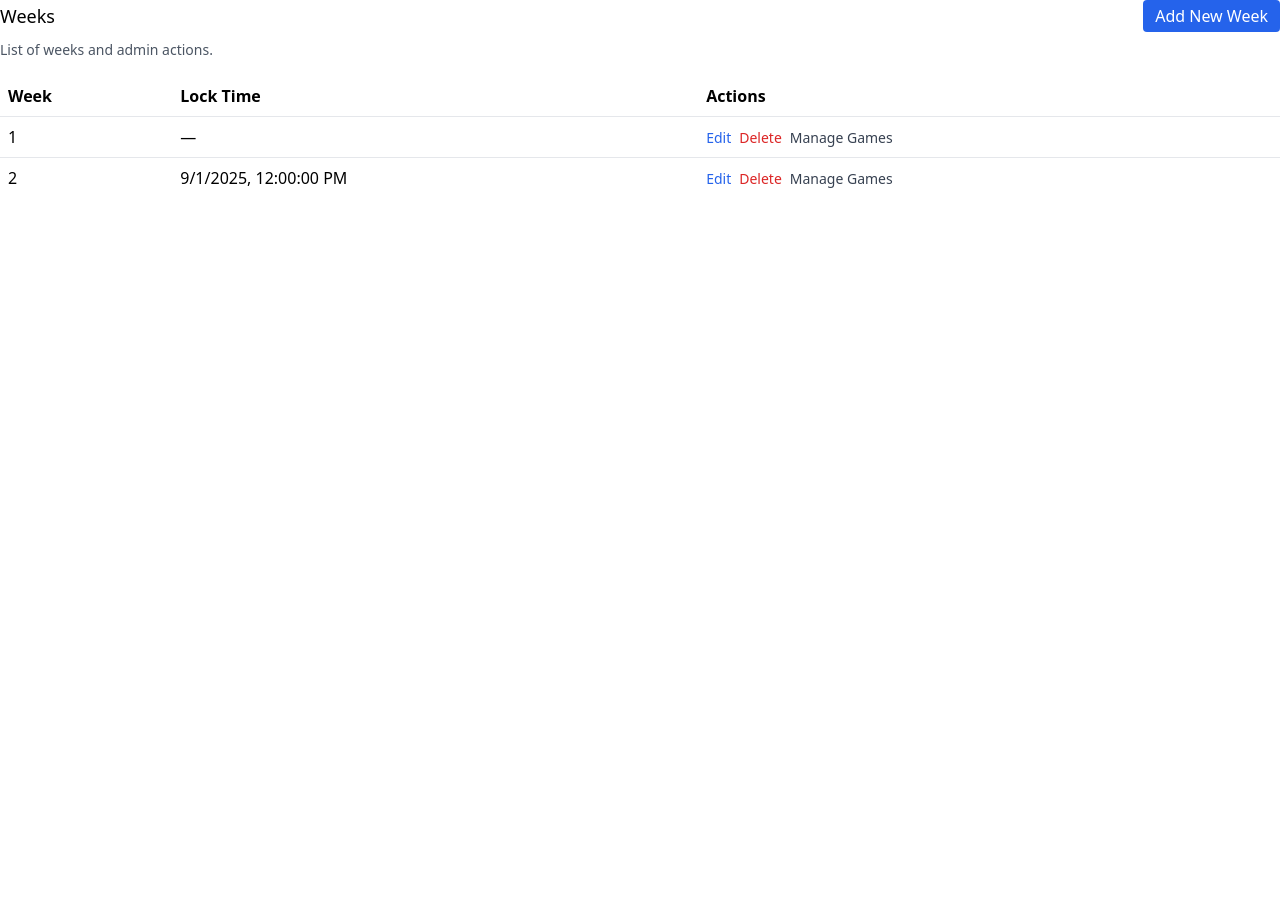
Test case: WeeksList admin CRUD › edits an existing week
Check: the text "1" is shown, box top-left (0, 116), bottom-right (172, 158)
// assume first edit corresponds to week 1
Click the 1st button "Edit".
click(719, 138)  # box top-left (706, 128), bottom-right (731, 148)
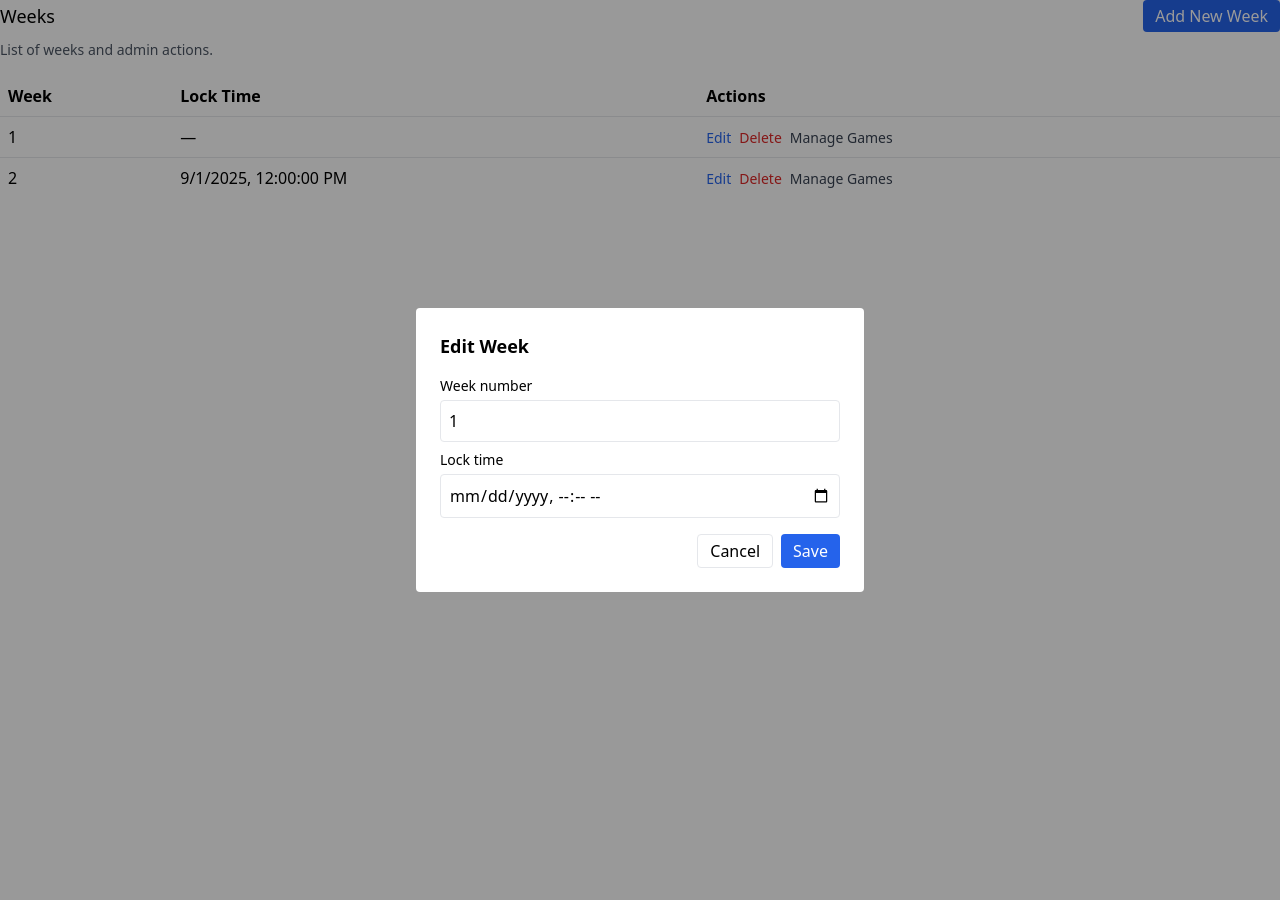
Check: the number field labelled "Week number" holds "1"
// change to 10
Replace the text in the number field labelled "Week number" with "10" at x=640, y=421, box top-left (440, 400), bottom-right (840, 442)
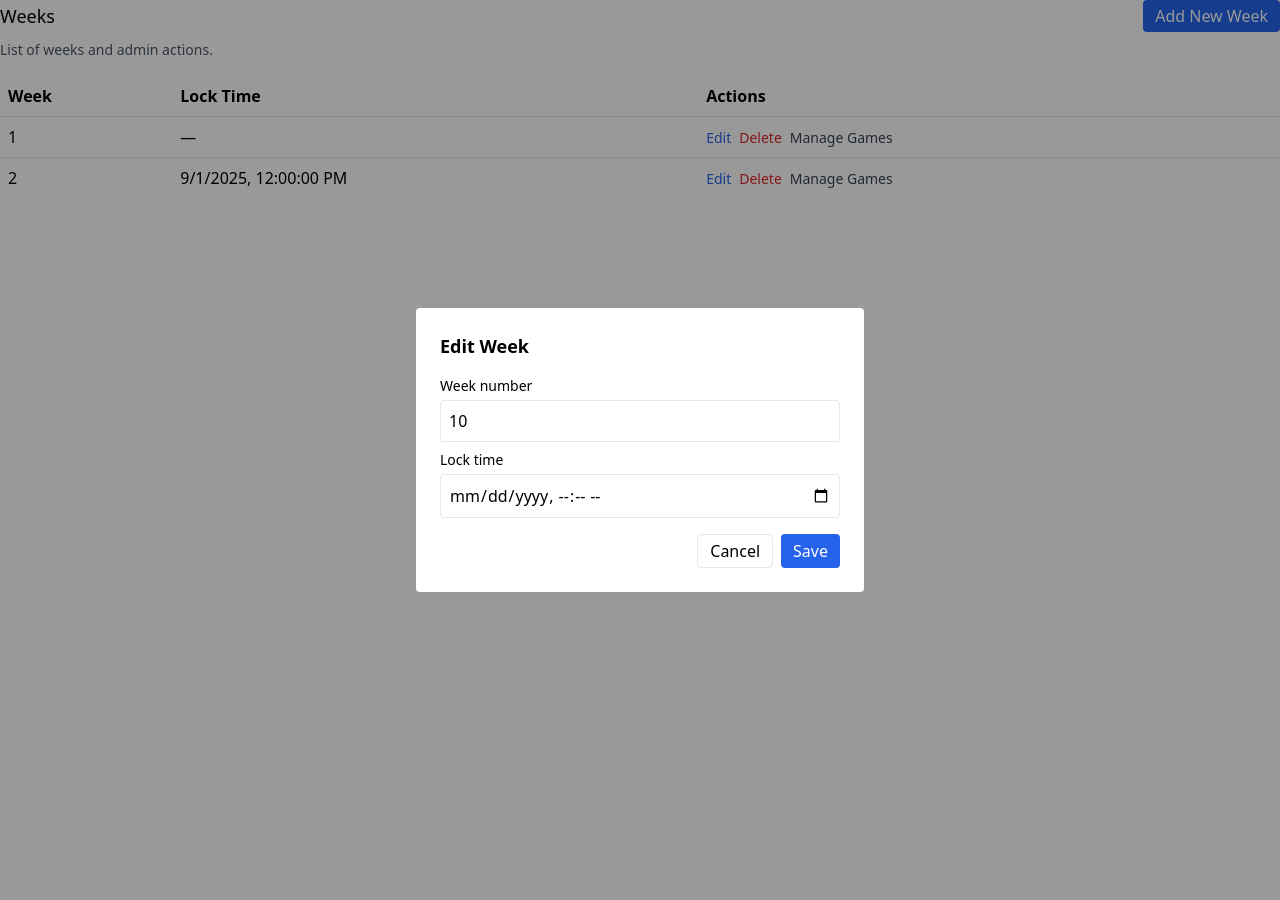
Click the button "Save".
click(811, 551)  # box top-left (781, 534), bottom-right (840, 568)
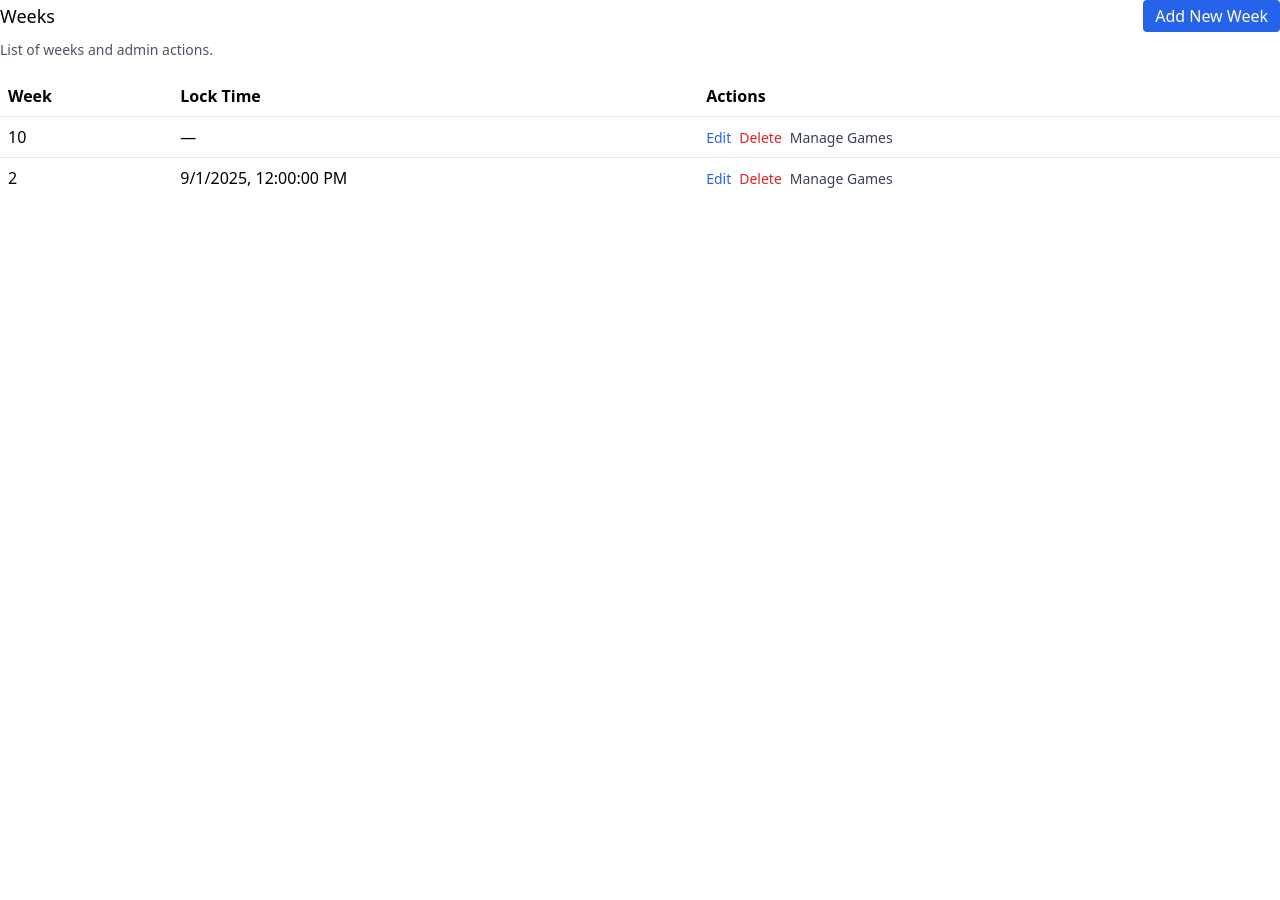
Check: the text "10" is shown, box top-left (0, 116), bottom-right (172, 158)
